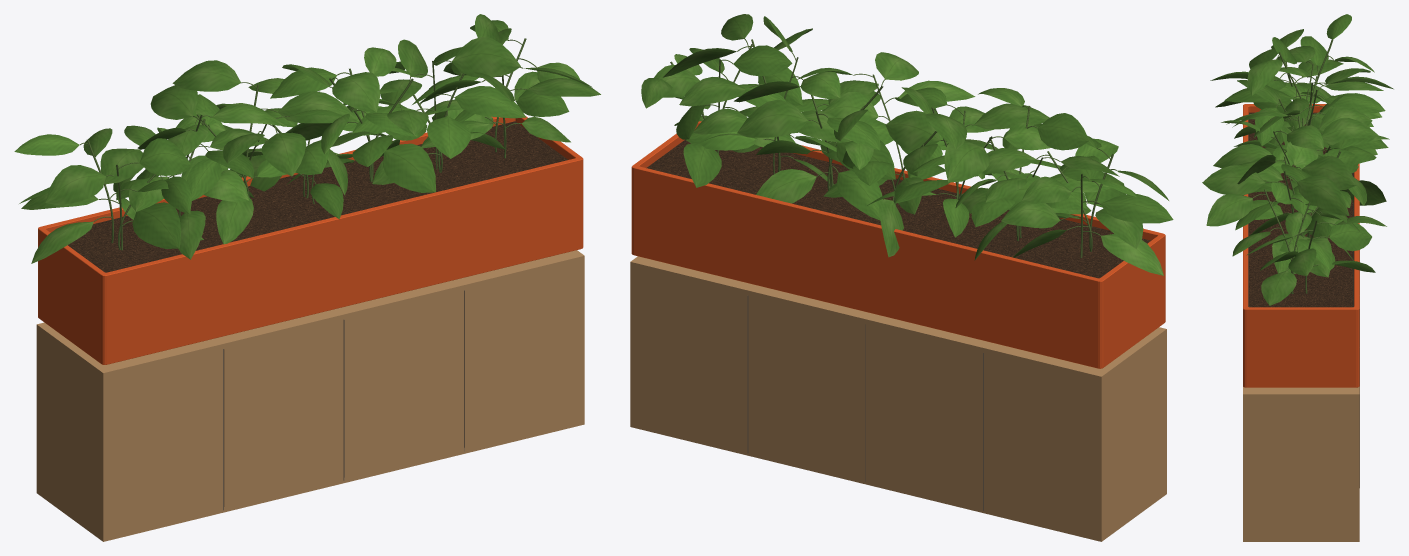
The model's file is botanicalDivider-7.glb.
3 views of the same model, side by side, from view 1: azimuth 30°, elevation 25°; view 2: azimuth 150°, elevation 25°; view 3: azimuth 270°, elevation 25° (orthographic). The views are drawn at different scales.
Visible parts, largest first — view 1: StoragePlanter_Door (×4), Planter_pothos_leaves, Planter_oiled_oak, Planter_loose_soil, StoragePlanter_Side (×2), StoragePlanter_Top, StoragePlanter_Bottom, Planter_pothos_stems, Planter_matte_accent; view 2: StoragePlanter_Back, Planter_pothos_leaves, Planter_oiled_oak, Planter_loose_soil, StoragePlanter_Side (×2), StoragePlanter_Top, Planter_matte_accent, StoragePlanter_Bottom, Planter_pothos_stems; view 3: Planter_pothos_leaves, StoragePlanter_Side, Planter_oiled_oak, Planter_loose_soil, Planter_pothos_stems, StoragePlanter_Top, StoragePlanter_Bottom.
Part boxes in pixels (x1,y1,x2,y2): StoragePlanter_Door (×4): (103, 262, 580, 535); Planter_pothos_leaves: (14, 14, 600, 263); Planter_oiled_oak: (38, 116, 583, 364); Planter_loose_soil: (68, 121, 567, 272); StoragePlanter_Side (×2): (36, 261, 584, 536); StoragePlanter_Top: (36, 250, 584, 378); StoragePlanter_Bottom: (36, 419, 584, 541); Planter_pothos_stems: (80, 38, 536, 250); Planter_matte_accent: (111, 235, 518, 344); StoragePlanter_Back: (635, 268, 1096, 534); Planter_pothos_leaves: (641, 14, 1173, 275); Planter_oiled_oak: (631, 121, 1165, 368); Planter_loose_soil: (646, 139, 1150, 278); StoragePlanter_Side (×2): (630, 267, 1166, 536); StoragePlanter_Top: (630, 256, 1166, 381); Planter_matte_accent: (638, 226, 1093, 345); StoragePlanter_Bottom: (630, 421, 1166, 541); Planter_pothos_stems: (670, 38, 1116, 257); Planter_pothos_leaves: (1202, 14, 1393, 305); StoragePlanter_Side: (1243, 399, 1359, 536); Planter_oiled_oak: (1243, 104, 1359, 387); Planter_loose_soil: (1249, 112, 1353, 307); Planter_pothos_stems: (1253, 39, 1341, 293); StoragePlanter_Top: (1243, 386, 1359, 398); StoragePlanter_Bottom: (1243, 537, 1359, 541).
Size of the model in its own units: 2.26 by 1.58 by 0.7924.
Materials: 9 (2 with a texture image).
